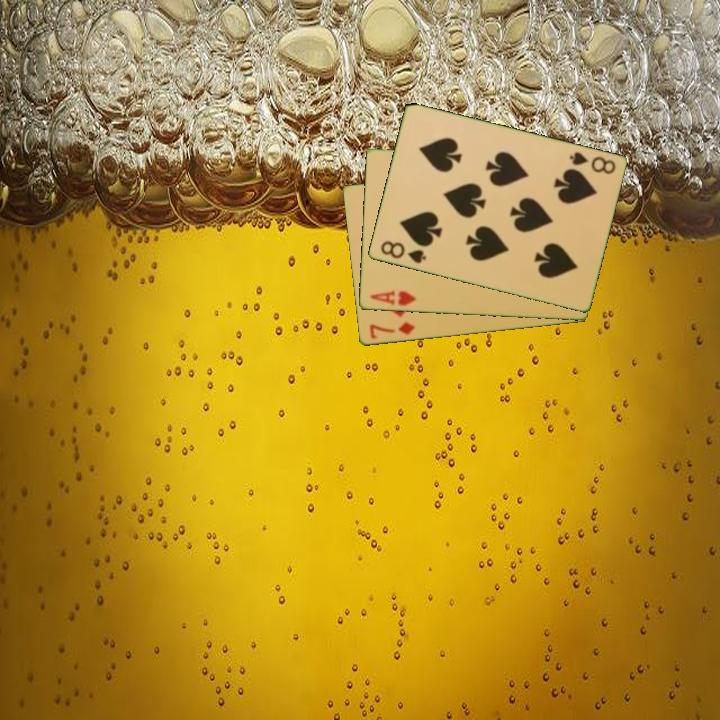7d: (366, 318, 417, 342)
8s: (377, 237, 429, 267), (565, 148, 618, 177)
Ah: (366, 287, 419, 309)
